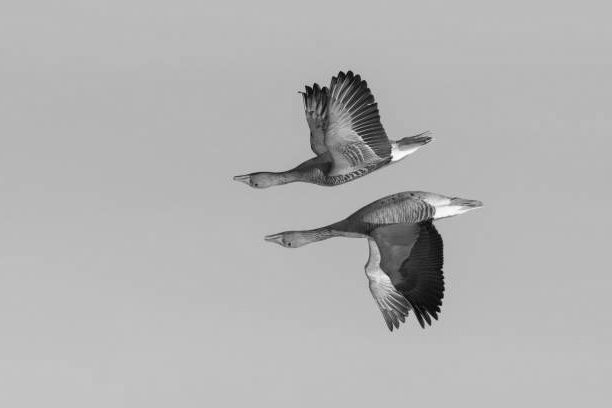Bird: (257, 189, 486, 337), (231, 67, 435, 188)
